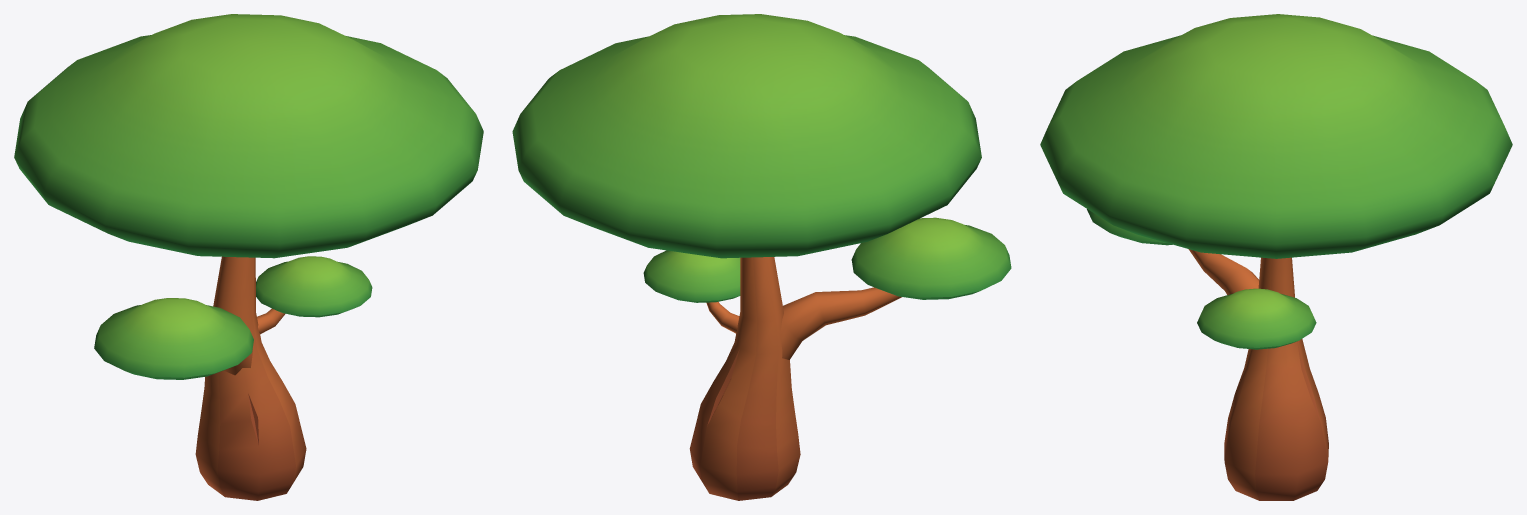
Rendered from Tree_3_B_Color1.glb.
3 renders of one model, left to right at view 1: azimuth 30°, elevation 25°; view 2: azimuth 150°, elevation 25°; view 3: azimuth 270°, elevation 25°, orthographic.
Visible parts, largest first — view 1: Tree_3_B_Color1; view 2: Tree_3_B_Color1; view 3: Tree_3_B_Color1.
Boxes of the visible parts, left/top/right/bottom form: Tree_3_B_Color1: left=14, top=14, right=483, bottom=500; Tree_3_B_Color1: left=512, top=14, right=1011, bottom=500; Tree_3_B_Color1: left=1040, top=14, right=1512, bottom=500.
Size of the model in its own units: 4.13 by 4.35 by 4.13.
Materials: 1 (1 with a texture image).
